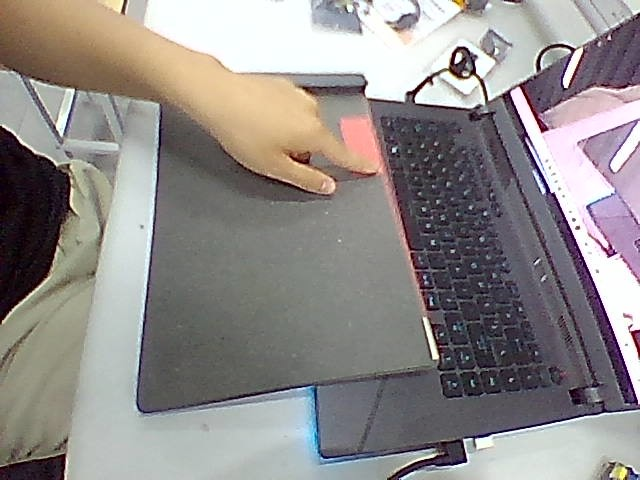card: (340, 115, 382, 166)
